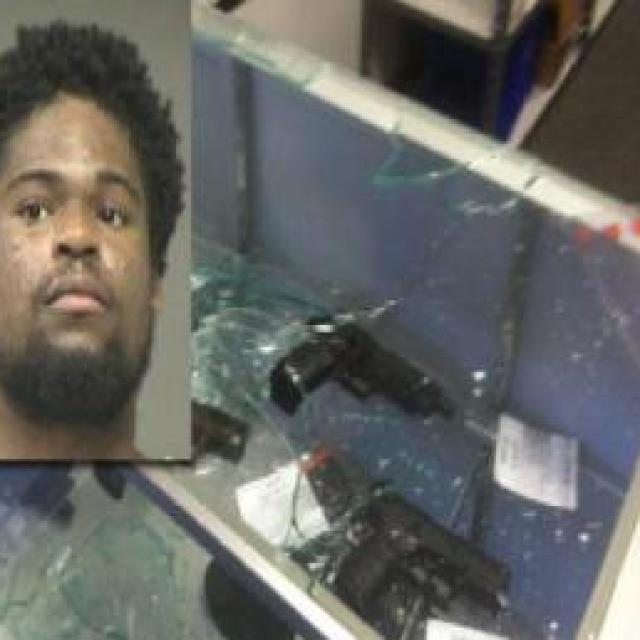pistol: (265, 295, 464, 437), (334, 486, 518, 632)
